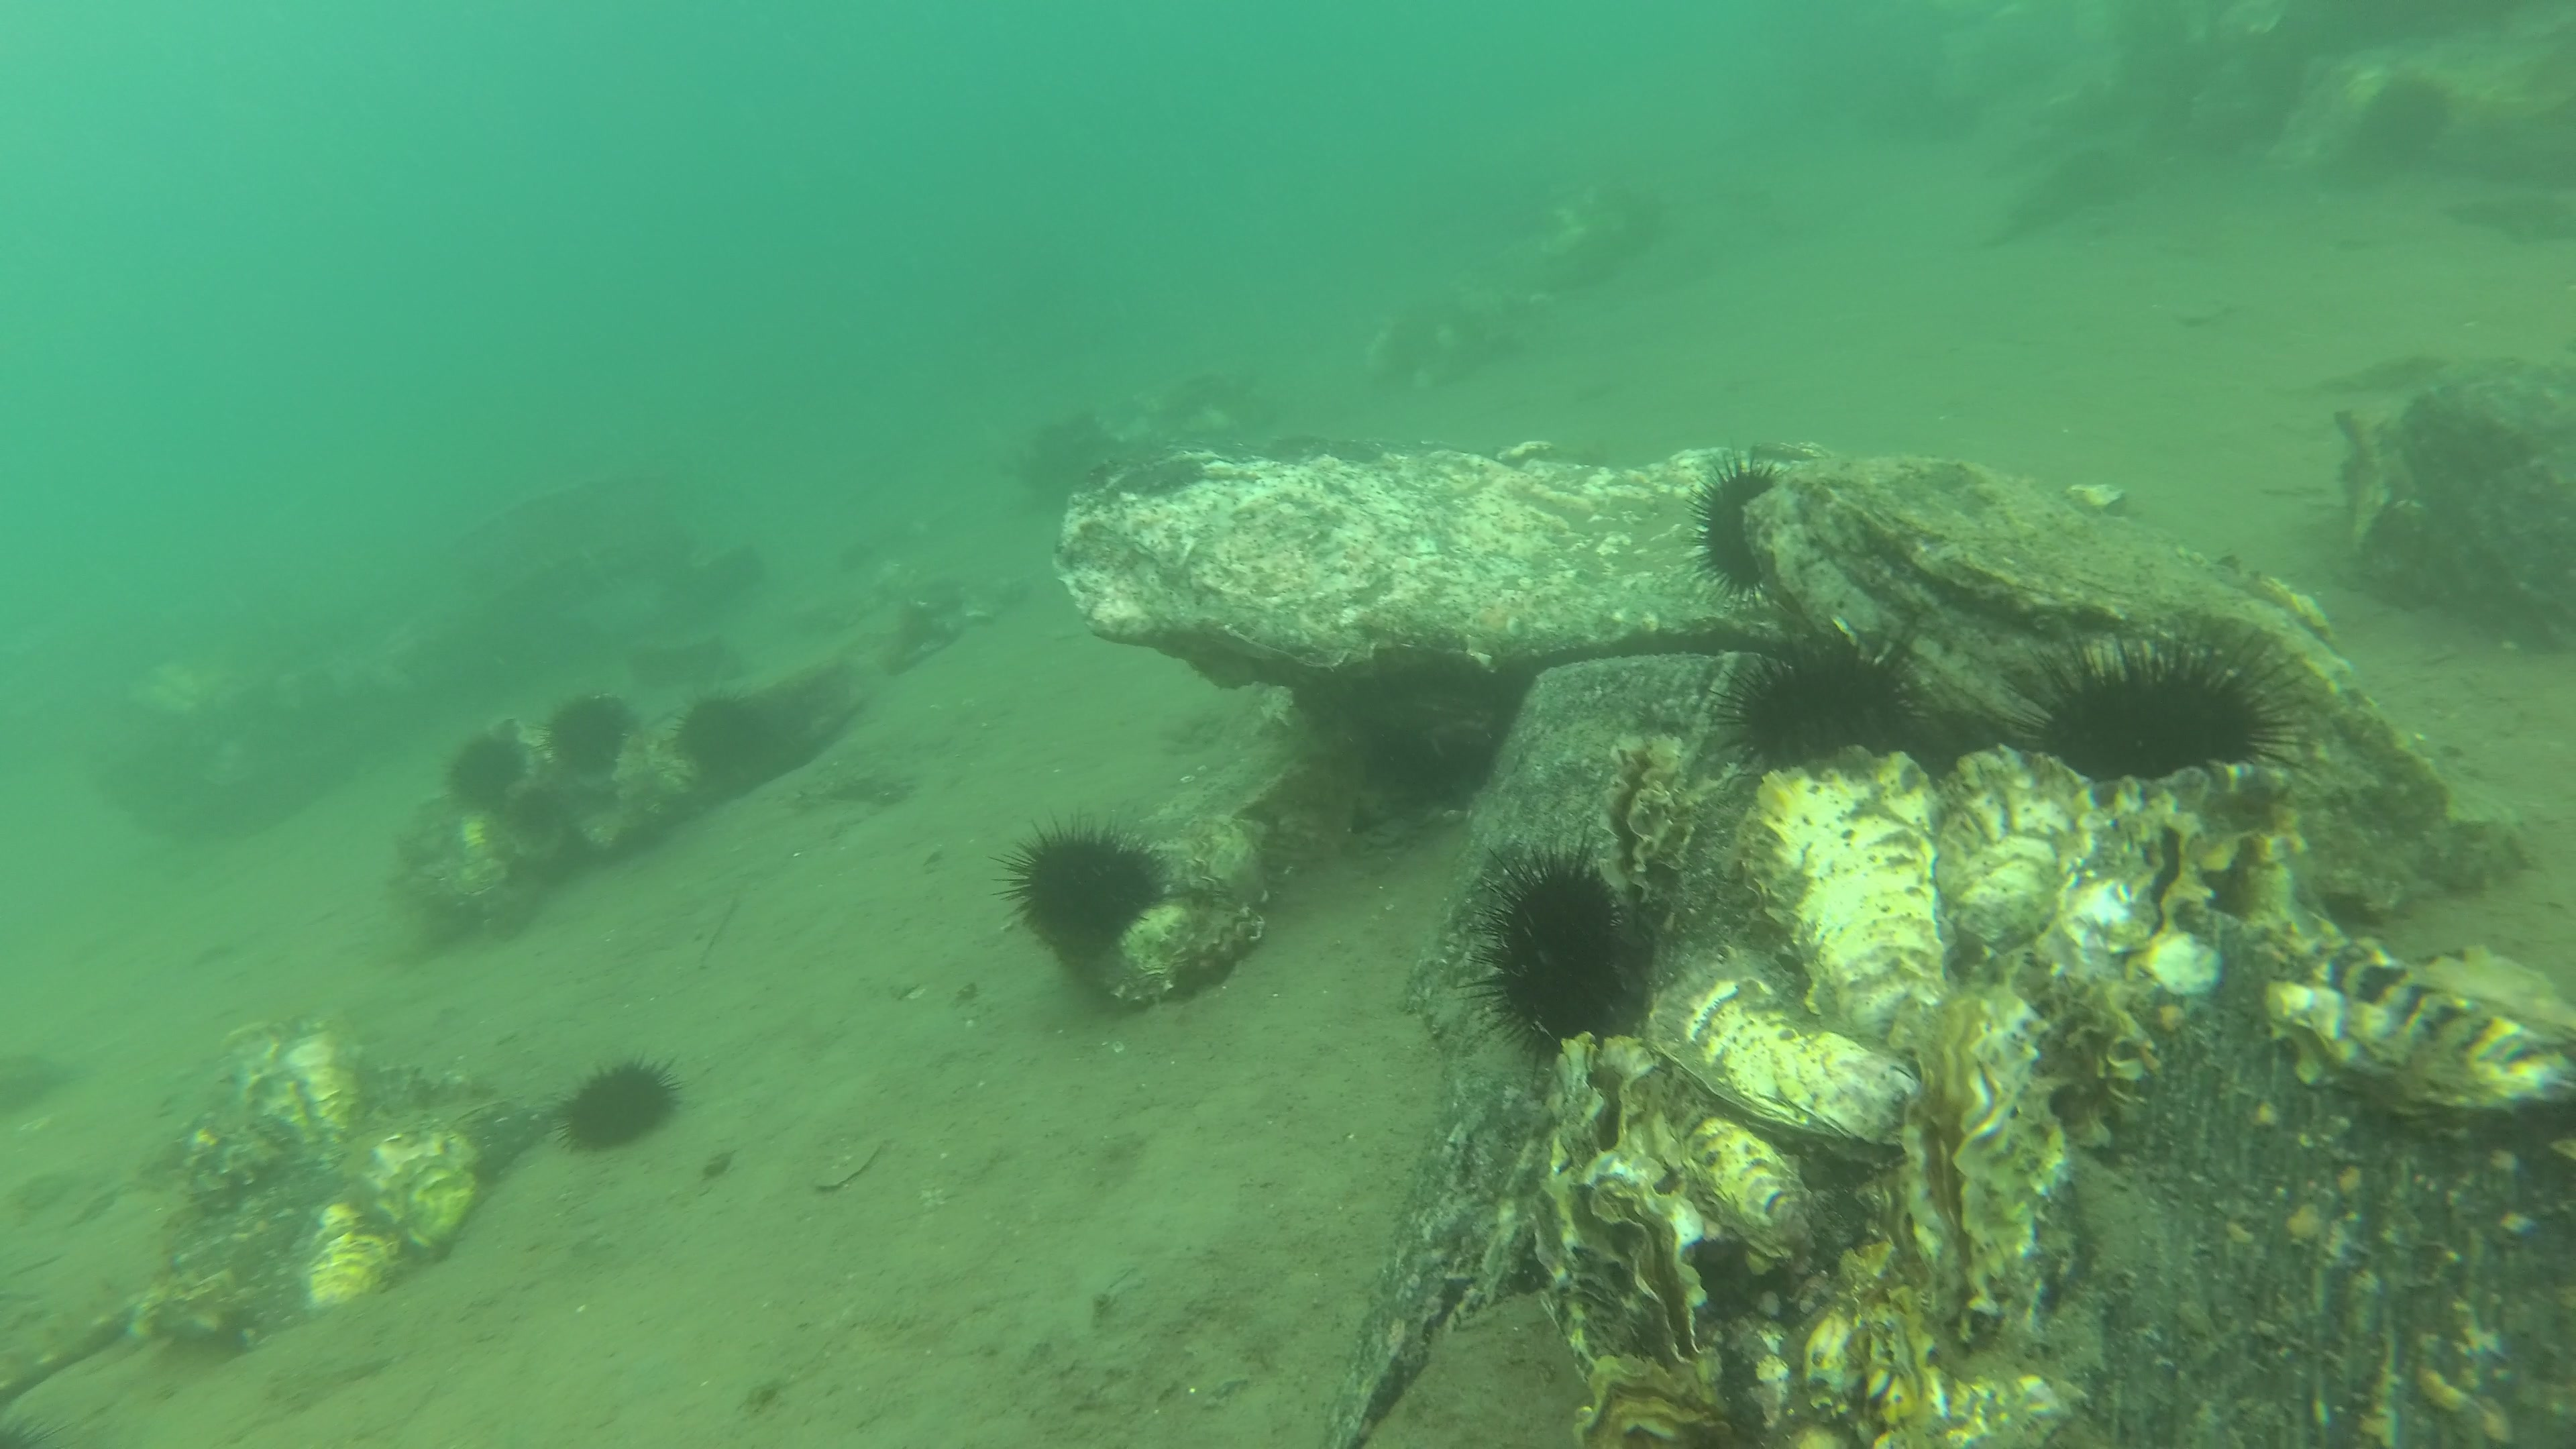echinus: (1999, 623, 2316, 784), (1454, 819, 1640, 1088), (1702, 621, 1943, 775), (989, 805, 1173, 957), (1679, 442, 1787, 609), (550, 1049, 686, 1157), (533, 692, 649, 780), (672, 686, 770, 778), (433, 731, 527, 810), (0, 1401, 78, 1449), (511, 786, 563, 839)
holothurian: (0, 1277, 136, 1401)
